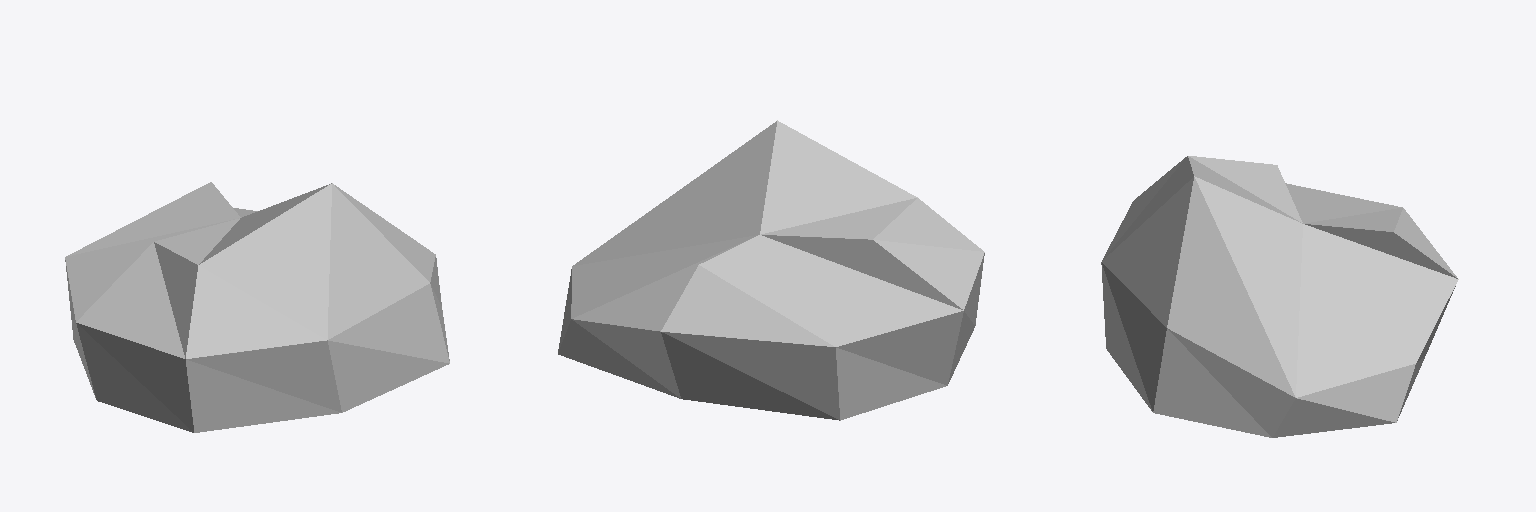
Rendered from rock3obj.obj.
3 views of the same model, side by side, from view 1: azimuth 30°, elevation 25°; view 2: azimuth 150°, elevation 25°; view 3: azimuth 270°, elevation 25° (orthographic).
Parts seen in each view (by area): view 1: rock2_Cube.001; view 2: rock2_Cube.001; view 3: rock2_Cube.001.
Part boxes in pixels (left/top/right/bottom): rock2_Cube.001: left=65, top=182, right=449, bottom=432; rock2_Cube.001: left=558, top=120, right=984, bottom=420; rock2_Cube.001: left=1101, top=156, right=1458, bottom=437.
Size of the model in its own units: 5.03 by 2.45 by 4.14.